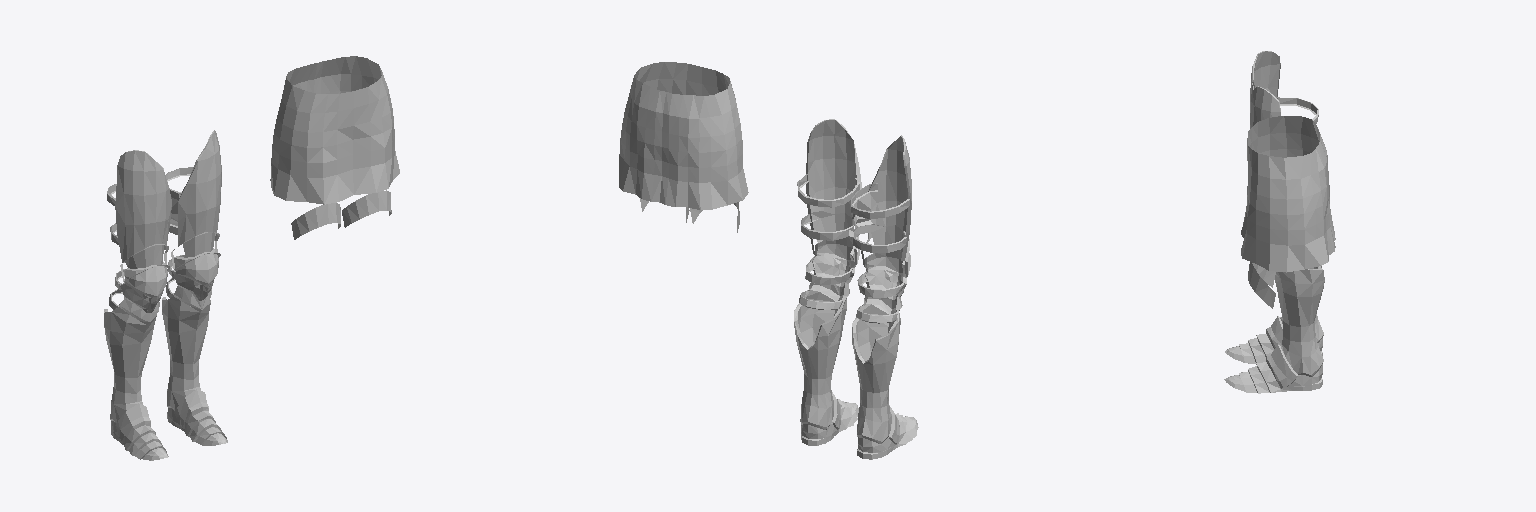
The model's file is legs.obj.
3 renders of one model, left to right at view 1: azimuth 30°, elevation 25°; view 2: azimuth 150°, elevation 25°; view 3: azimuth 270°, elevation 25°, orthographic.
Visible parts, largest first — view 1: A_9491:mesh02 group, group A_9491:mesh11; view 2: A_9491:mesh02 group, group A_9491:mesh11; view 3: group A_9491:mesh11, A_9491:mesh02 group.
Part boxes in pixels (left/top/right/bottom): A_9491:mesh02 group: left=104, top=130, right=227, bottom=460; group A_9491:mesh11: left=270, top=56, right=399, bottom=239; A_9491:mesh02 group: left=794, top=119, right=918, bottom=459; group A_9491:mesh11: left=619, top=62, right=748, bottom=232; group A_9491:mesh11: left=1241, top=116, right=1335, bottom=308; A_9491:mesh02 group: left=1224, top=51, right=1324, bottom=393.
Size of the model in its own units: 100 by 108 by 33.95.